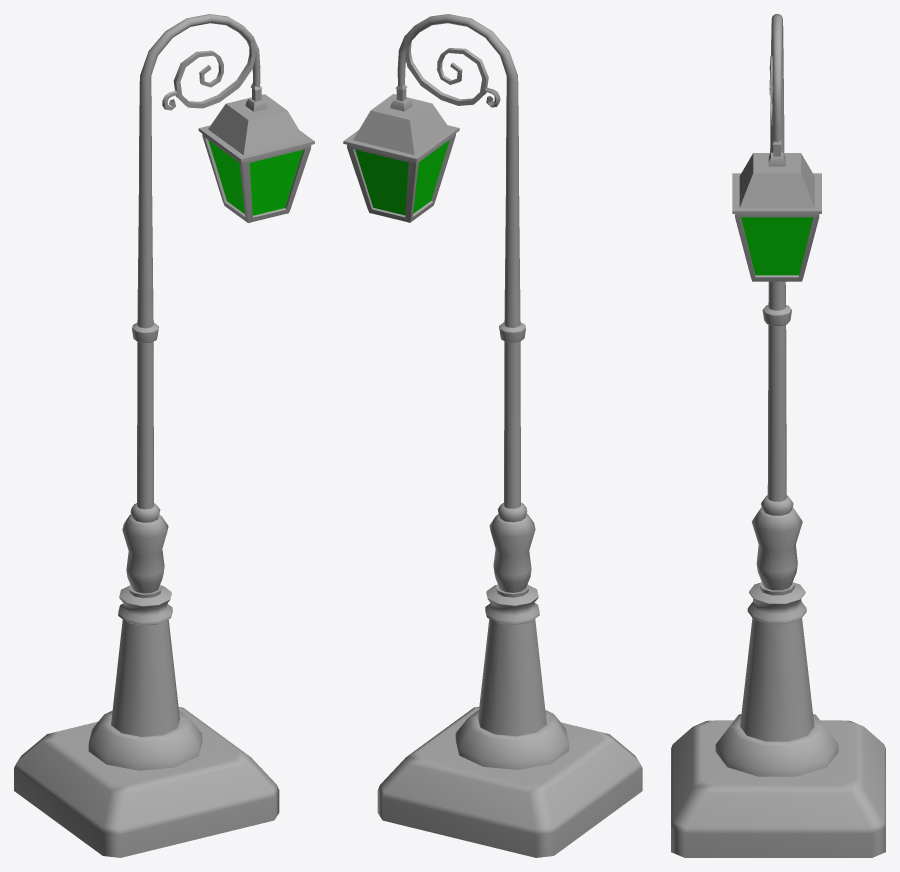
File: SM_Lampadaire_2.fbx
3 renders of one model, left to right at view 1: azimuth 30°, elevation 25°; view 2: azimuth 150°, elevation 25°; view 3: azimuth 270°, elevation 25°, orthographic. The views are drawn at different scales.
Visible parts, largest first — view 1: polySurface55, polySurface56, polySurface50; view 2: polySurface55, polySurface56, polySurface50; view 3: polySurface55, polySurface56, polySurface50.
Part boxes in pixels (x1=…): polySurface55: x1=14, y1=707, x2=279, y2=857; polySurface56: x1=88, y1=120, x2=202, y2=770; polySurface50: x1=139, y1=14, x2=314, y2=222; polySurface55: x1=377, y1=707, x2=642, y2=857; polySurface56: x1=455, y1=119, x2=569, y2=769; polySurface50: x1=343, y1=14, x2=518, y2=222; polySurface55: x1=671, y1=720, x2=885, y2=857; polySurface56: x1=715, y1=90, x2=838, y2=776; polySurface50: x1=732, y1=14, x2=821, y2=281.
Bounding box in the file's own units: 101 × 320 × 76.28.
